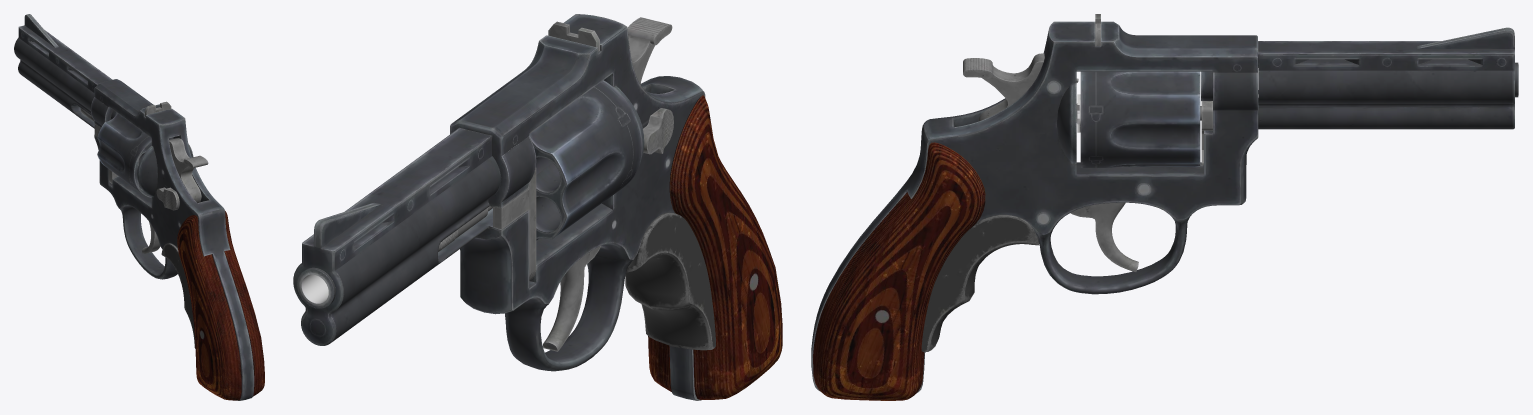
Rendered from revolver38.glb.
3 renders of one model, left to right at view 1: azimuth 30°, elevation 25°; view 2: azimuth 150°, elevation 25°; view 3: azimuth 270°, elevation 25°, orthographic. The views are drawn at different scales.
Parts seen in each view (by area): view 1: Object_2, Object_4, Object_5, Object_3; view 2: Object_2, Object_4, Object_3, Object_5, Object_6; view 3: Object_2, Object_4, Object_3, Object_5.
Part boxes in pixels (bbox=[...]): Object_2: bbox=[14, 14, 242, 400]; Object_4: bbox=[18, 15, 264, 400]; Object_5: bbox=[111, 110, 254, 400]; Object_3: bbox=[97, 113, 192, 257]; Object_2: bbox=[302, 14, 715, 400]; Object_4: bbox=[297, 21, 782, 399]; Object_3: bbox=[293, 80, 711, 351]; Object_5: bbox=[466, 241, 696, 400]; Object_6: bbox=[438, 206, 492, 251]; Object_2: bbox=[811, 19, 1518, 393]; Object_4: bbox=[813, 14, 1518, 400]; Object_3: bbox=[928, 53, 1514, 351]; Object_5: bbox=[811, 71, 1243, 381].
Bounding box in the file's own units: 38.18 × 143 × 248.
2 materials, 2 textured.
